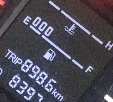grid_pose: (31, 29, 101, 92)
